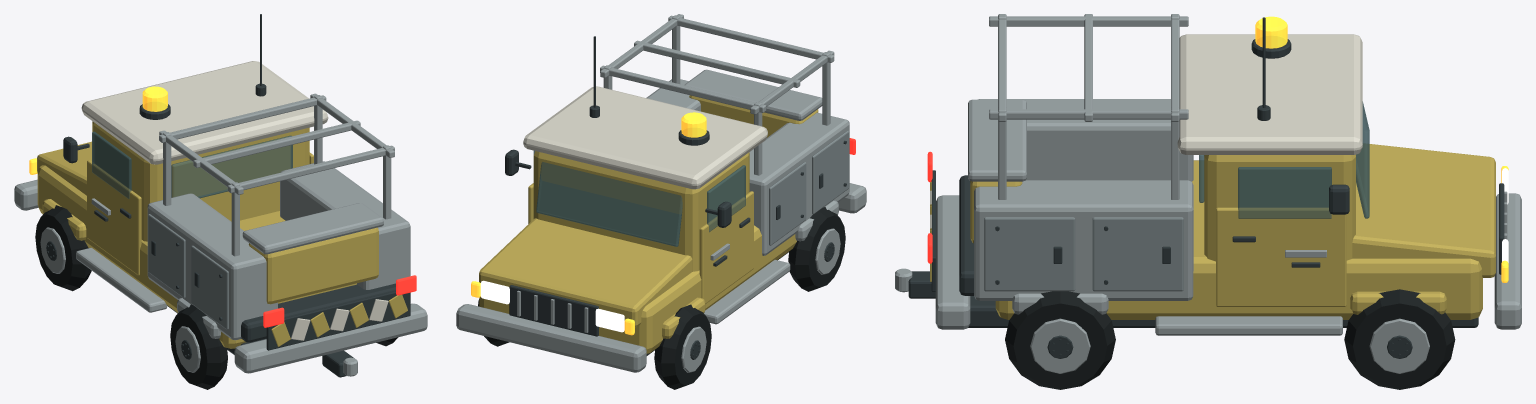
Rendered from hushpoint_service_truck.glb.
3 views of the same model, side by side, from view 1: azimuth 30°, elevation 25°; view 2: azimuth 150°, elevation 25°; view 3: azimuth 270°, elevation 25° (orthographic). The views are drawn at different scales.
Parts seen in each view (by area): view 1: ServiceTruck_GalvanizedSteel, ServiceTruck_SafetyYellowPaint, ServiceTruck_ReflectiveWhite, ServiceTruck_DarkPowdercoat, ServiceTruck_SmokedSafetyGlass, ServiceTruck_TireRubber, ServiceTruck_BrushedSteelPanel, ServiceTruck_AmberSignalLens, ServiceTruck_RedSignalLens; view 2: ServiceTruck_SafetyYellowPaint, ServiceTruck_GalvanizedSteel, ServiceTruck_ReflectiveWhite, ServiceTruck_SmokedSafetyGlass, ServiceTruck_TireRubber, ServiceTruck_DarkPowdercoat, ServiceTruck_BrushedSteelPanel, ServiceTruck_HeadlampLens, ServiceTruck_AmberSignalLens; view 3: ServiceTruck_GalvanizedSteel, ServiceTruck_SafetyYellowPaint, ServiceTruck_ReflectiveWhite, ServiceTruck_BrushedSteelPanel, ServiceTruck_TireRubber, ServiceTruck_DarkPowdercoat, ServiceTruck_SmokedSafetyGlass, ServiceTruck_AmberSignalLens.
Boxes of the visible parts, bbox=[...] form: ServiceTruck_GalvanizedSteel: bbox=[14, 93, 427, 376]; ServiceTruck_SafetyYellowPaint: bbox=[37, 121, 407, 348]; ServiceTruck_ReflectiveWhite: bbox=[81, 61, 388, 340]; ServiceTruck_DarkPowdercoat: bbox=[46, 14, 410, 377]; ServiceTruck_SmokedSafetyGlass: bbox=[92, 131, 292, 198]; ServiceTruck_TireRubber: bbox=[35, 205, 397, 389]; ServiceTruck_BrushedSteelPanel: bbox=[148, 214, 228, 329]; ServiceTruck_AmberSignalLens: bbox=[29, 86, 167, 174]; ServiceTruck_RedSignalLens: bbox=[263, 275, 416, 327]; ServiceTruck_SafetyYellowPaint: bbox=[479, 95, 818, 353]; ServiceTruck_GalvanizedSteel: bbox=[456, 14, 866, 372]; ServiceTruck_ReflectiveWhite: bbox=[523, 86, 767, 189]; ServiceTruck_SmokedSafetyGlass: bbox=[533, 150, 745, 246]; ServiceTruck_TireRubber: bbox=[478, 207, 845, 389]; ServiceTruck_DarkPowdercoat: bbox=[505, 36, 846, 359]; ServiceTruck_BrushedSteelPanel: bbox=[769, 130, 849, 245]; ServiceTruck_HeadlampLens: bbox=[480, 280, 624, 332]; ServiceTruck_AmberSignalLens: bbox=[471, 112, 706, 335]; ServiceTruck_GalvanizedSteel: bbox=[895, 14, 1521, 373]; ServiceTruck_SafetyYellowPaint: bbox=[930, 144, 1495, 319]; ServiceTruck_ReflectiveWhite: bbox=[930, 34, 1362, 228]; ServiceTruck_BrushedSteelPanel: bbox=[984, 217, 1183, 291]; ServiceTruck_TireRubber: bbox=[1005, 289, 1455, 389]; ServiceTruck_DarkPowdercoat: bbox=[908, 17, 1504, 358]; ServiceTruck_SmokedSafetyGlass: bbox=[1199, 101, 1369, 218]; ServiceTruck_AmberSignalLens: bbox=[1255, 16, 1508, 282].
Size of the model in its own units: 2.62 by 3.13 by 5.08.
